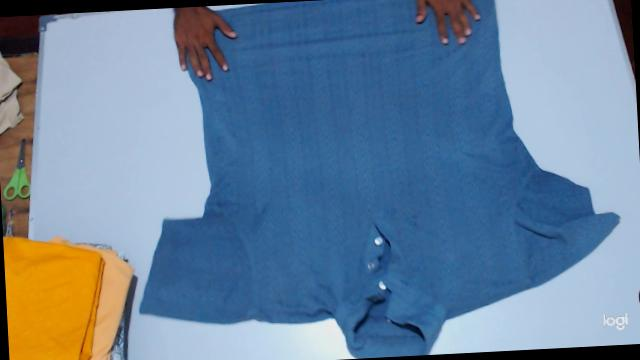new-garment: (140, 0, 618, 358)
